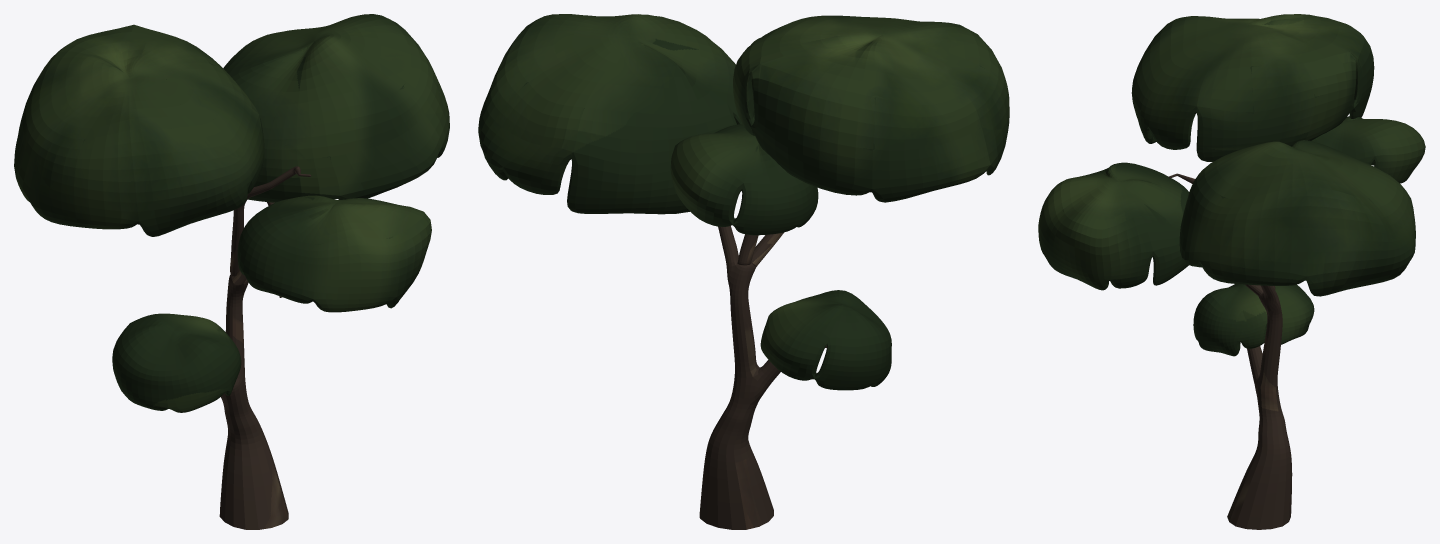
Rendered from treeLowPoly3.fbx.
3 renders of one model, left to right at view 1: azimuth 30°, elevation 25°; view 2: azimuth 150°, elevation 25°; view 3: azimuth 270°, elevation 25°, orthographic. The views are drawn at different scales.
Visible parts, largest first — view 1: Circle; view 2: Circle; view 3: Circle.
Part boxes in pixels (bbox=[...]): Circle: bbox=[14, 14, 449, 529]; Circle: bbox=[478, 14, 1009, 529]; Circle: bbox=[1038, 14, 1425, 529].
Size of the model in its own units: 407 by 432 by 346.
